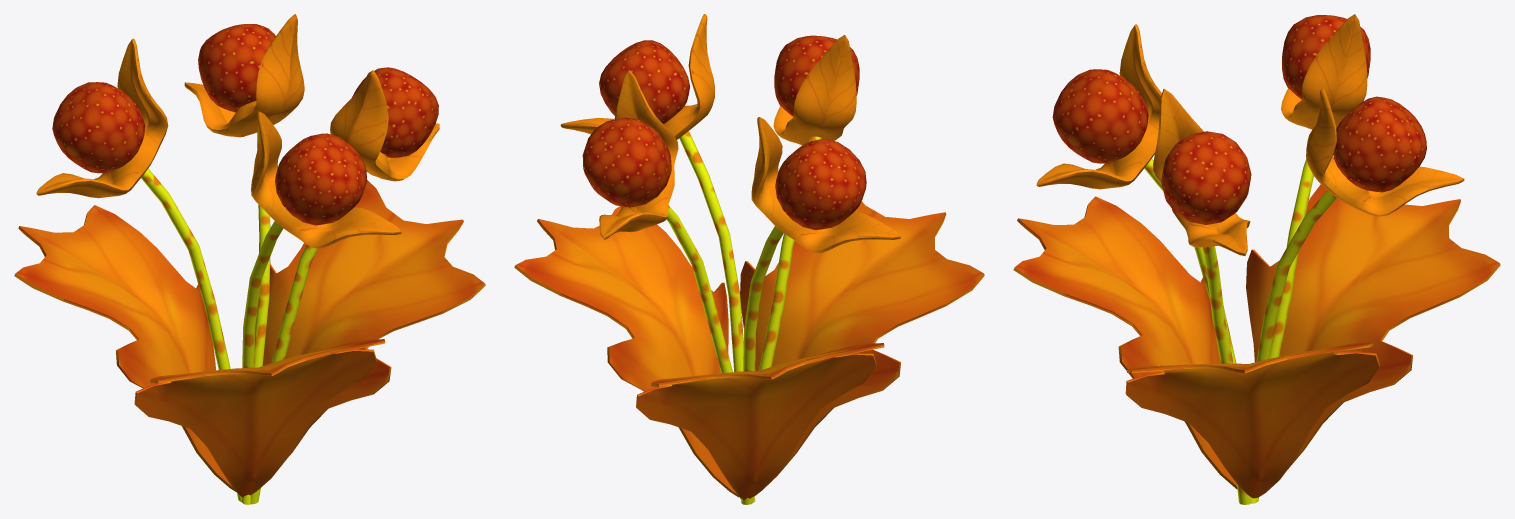
File: FoodPlant.fbx
The picture shows the model from 3 angles, left to right: view 1: azimuth 30°, elevation 25°; view 2: azimuth 150°, elevation 25°; view 3: azimuth 270°, elevation 25°; orthographic projection. The views are drawn at different scales.
Parts seen in each view (by area): view 1: Cylinder.013; view 2: Cylinder.013; view 3: Cylinder.013.
Boxes of the visible parts, bbox=[...] form: Cylinder.013: bbox=[14, 14, 485, 504]; Cylinder.013: bbox=[514, 14, 984, 504]; Cylinder.013: bbox=[1013, 14, 1500, 504].
Bounding box in the file's own units: 88.74 × 93.47 × 90.61.
Materials: 1 (1 with a texture image).
